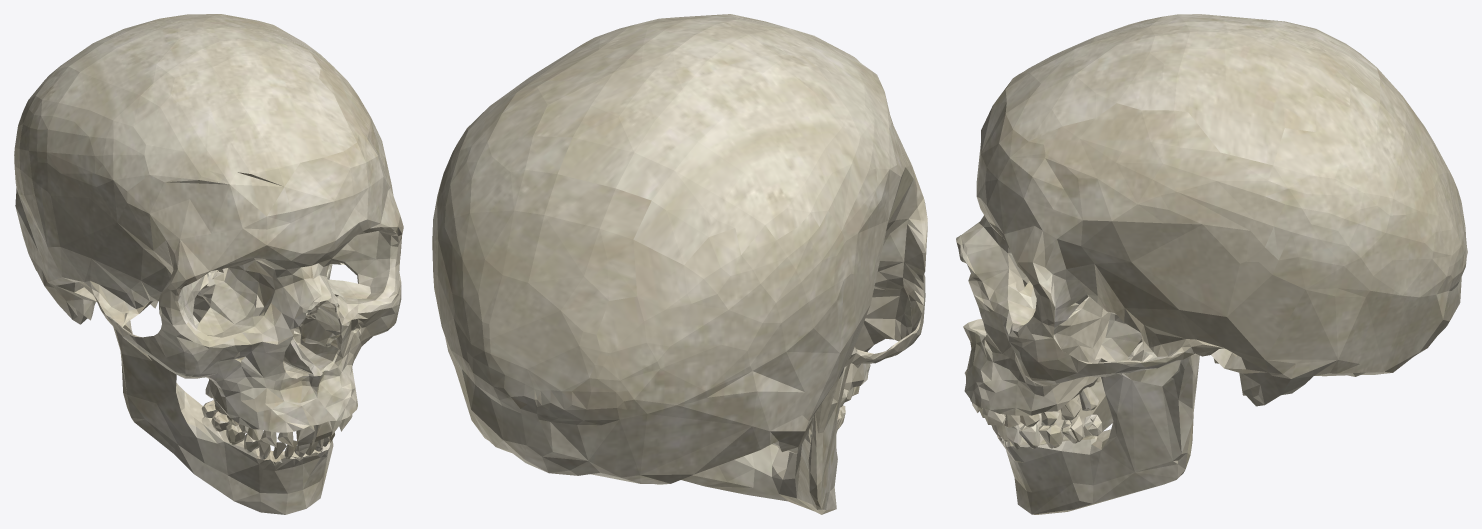
File: skull.obj
The picture shows the model from 3 angles, left to right: view 1: azimuth 30°, elevation 25°; view 2: azimuth 150°, elevation 25°; view 3: azimuth 270°, elevation 25°; orthographic projection. The views are drawn at different scales.
Parts seen in each view (by area): view 1: Skull; view 2: Skull; view 3: Skull.
Boxes of the visible parts, x1,y1,x2,y2 form: Skull: (14,14,403,514); Skull: (432,14,927,514); Skull: (956,14,1467,514).
Bounding box in the file's own units: 0.3695 × 0.4981 × 0.4929.
1 material, 1 textured.
